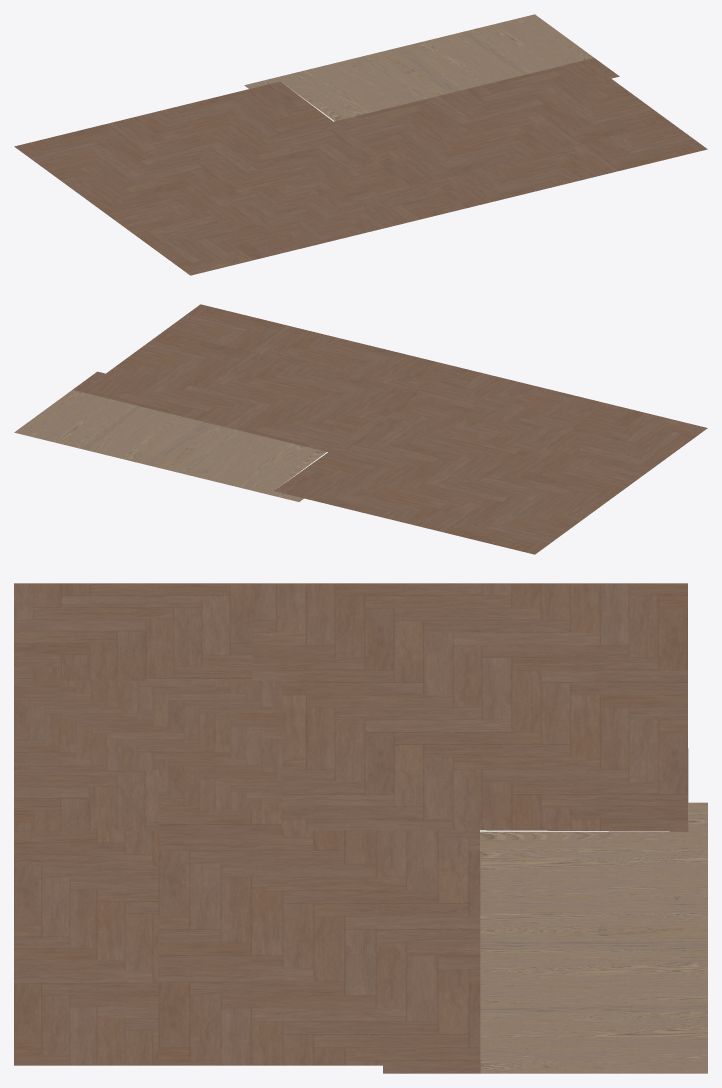
Rendered from Sol.obj.
3 renders of one model, top to bottom at view 1: azimuth 30°, elevation 25°; view 2: azimuth 150°, elevation 25°; view 3: azimuth 270°, elevation 25°, orthographic. The views are drawn at different scales.
Parts seen in each view (by area): view 1: Sol_Chambres, Sol_Salon, Sol_balcon, Sol_Cuisine, Sol_Entree, Sol_Salle_de_bain, Sol_toilette; view 2: Sol_Chambres, Sol_Salon, Sol_balcon, Sol_Cuisine, Sol_Entree, Sol_Salle_de_bain, Sol_toilette; view 3: Sol_Chambres, Sol_Salon, Sol_balcon, Sol_Cuisine, Sol_Entree, Sol_Salle_de_bain, Sol_toilette.
Part boxes in pixels (x1,y1,x2,y2): Sol_Chambres: (14, 81, 384, 229); Sol_Salon: (334, 58, 669, 187); Sol_balcon: (244, 14, 593, 121); Sol_Cuisine: (418, 122, 707, 210); Sol_Entree: (225, 165, 396, 249); Sol_Salle_de_bain: (128, 204, 294, 275); Sol_toilette: (354, 183, 455, 226); Sol_Chambres: (274, 415, 645, 554); Sol_Salon: (72, 331, 430, 451); Sol_balcon: (14, 390, 326, 501); Sol_Cuisine: (164, 304, 446, 391); Sol_Entree: (399, 380, 604, 453); Sol_Salle_de_bain: (544, 403, 707, 472); Sol_toilette: (411, 364, 510, 406); Sol_Chambres: (252, 583, 688, 831); Sol_Salon: (158, 811, 480, 1073); Sol_balcon: (480, 802, 707, 1073); Sol_Cuisine: (14, 831, 158, 1065); Sol_Entree: (14, 680, 282, 811); Sol_Salle_de_bain: (14, 583, 252, 680); Sol_toilette: (14, 770, 158, 830).
Bounding box in the file's own units: 14.16 × 0 × 8.47.
